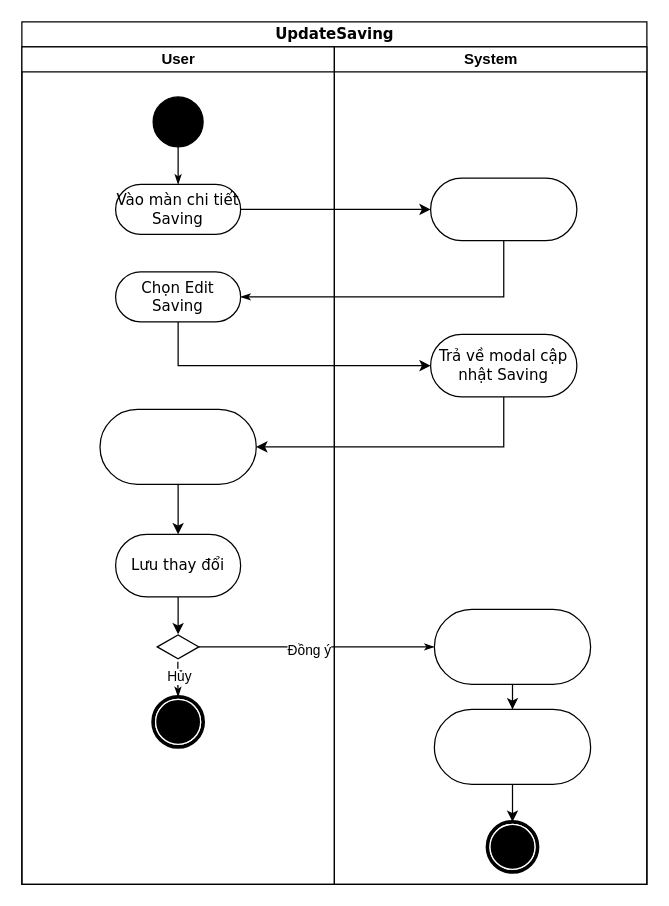
The diagram is 669 pixels wide and 906 high, and some of its shapes have lost their labels. Each missing label, with the centre of its shape:
"Trả về màn hình chi tiết Saving" goes at [503,209].
"Trả về thông tin cập nhật, biểu đồ thay đổi" goes at [512,746].
"Tính toán thay đổi lãi suất, tiền" goes at [512,646].
"Điền, chọn các thông tin muốn thay đổi" goes at [177,446].
